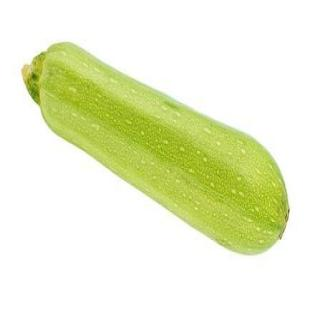Zucchini: (23, 44, 288, 254)
